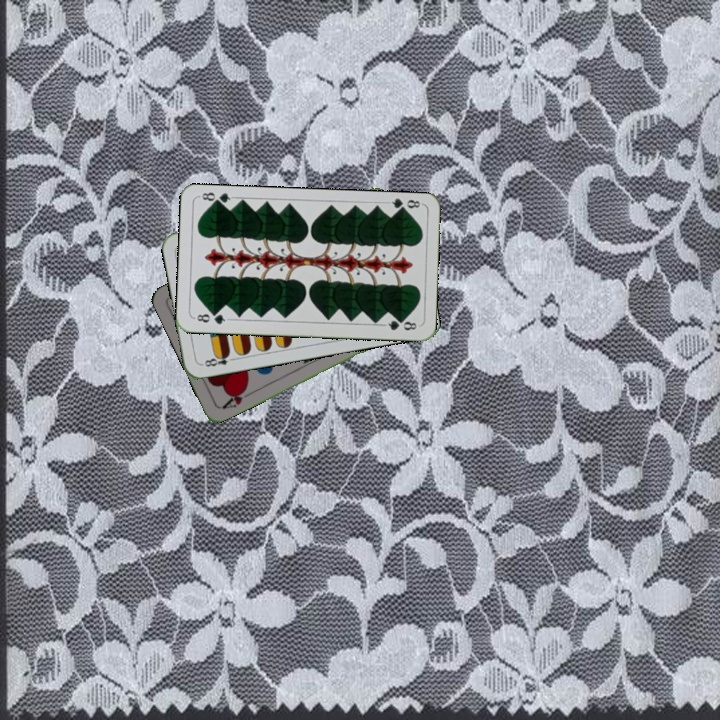E8: (198, 349, 238, 370)
G8: (384, 195, 424, 215), (191, 309, 231, 327)
HA: (218, 383, 256, 412)
